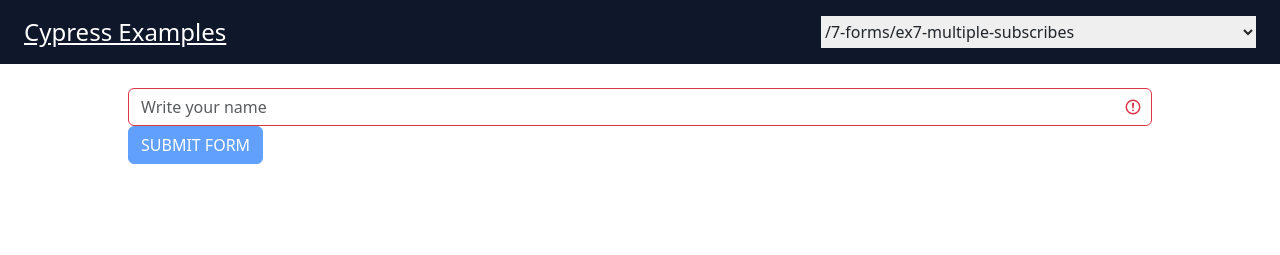
Test case: Messages › display the success message if form is submitted
In the field named "username": (640, 107) [128,88,1152,126], type "Fabio Biondi"
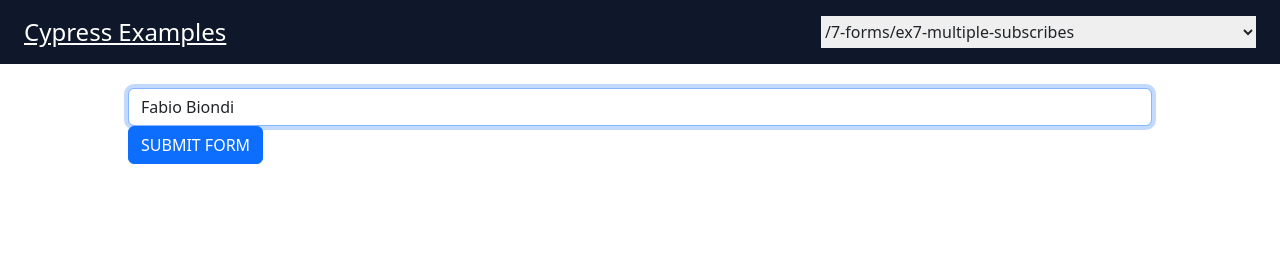
Click the button "SUBMIT FORM": (196, 145) [128,126,263,164]
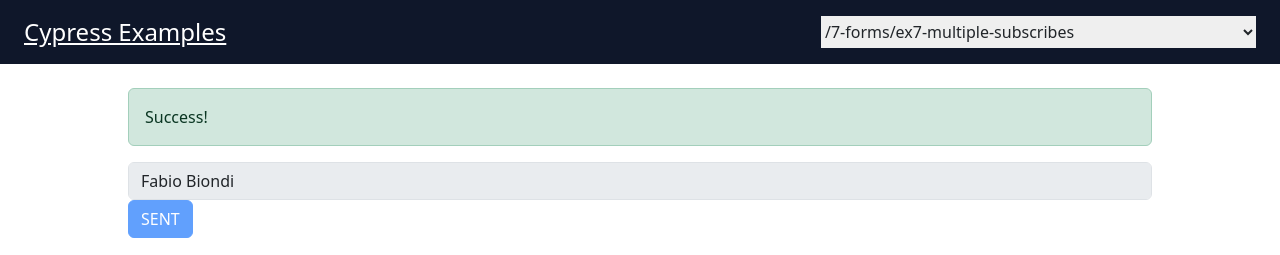
Result: the text "Success!" is shown at [128,88,1152,146]
